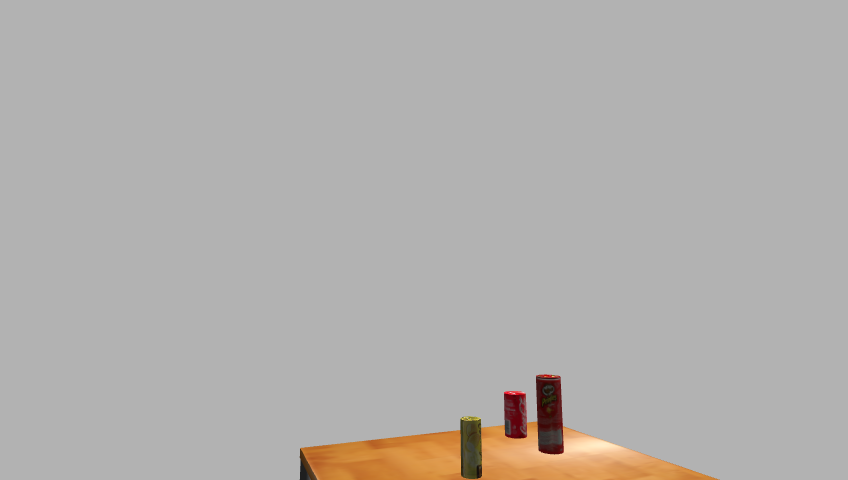biscuits pack: (459, 416, 484, 479)
coke can: (502, 391, 529, 439)
dinner table: (288, 424, 765, 480)
pringles can: (534, 374, 565, 455)
